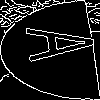A: (25, 25, 100, 63)
